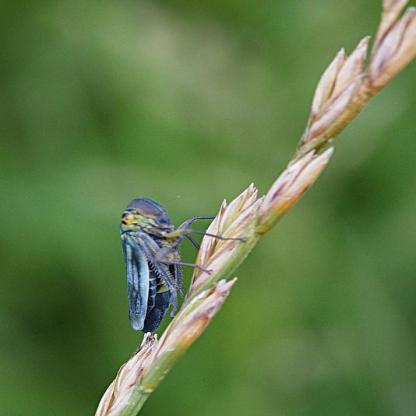Green-Leafhopper: (114, 199, 233, 336)
